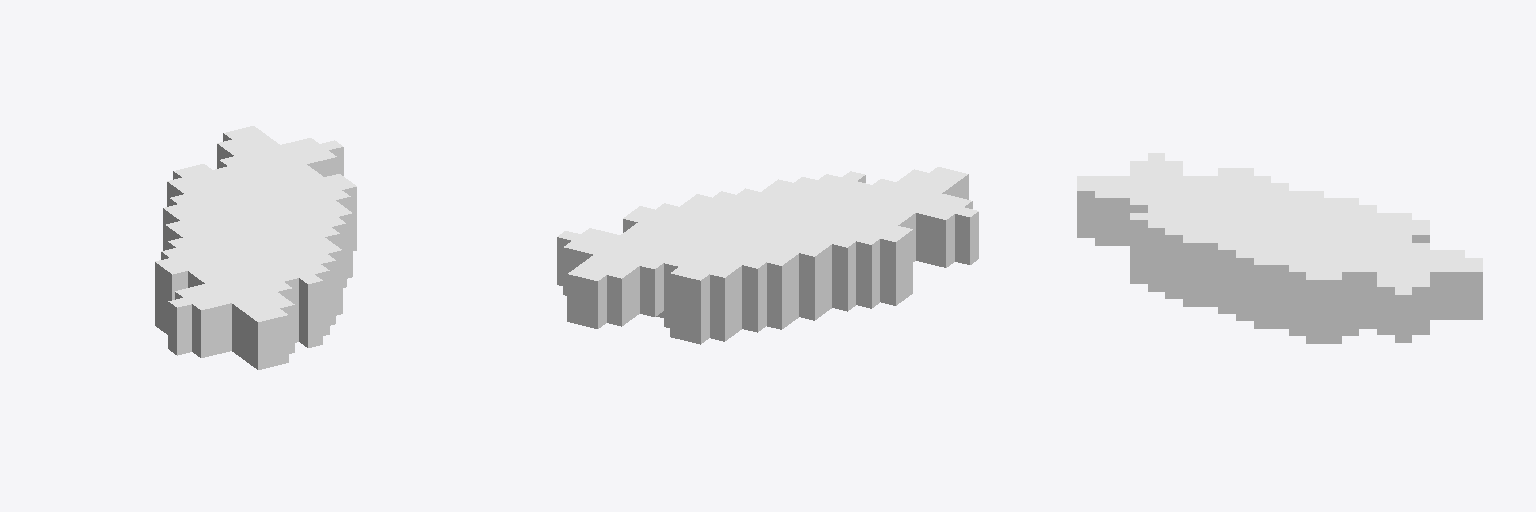
Rendered from Eruption-18.obj.
3 views of the same model, side by side, from view 1: azimuth 30°, elevation 25°; view 2: azimuth 150°, elevation 25°; view 3: azimuth 270°, elevation 25° (orthographic).
Parts seen in each view (by area): view 1: object 1; view 2: object 1; view 3: object 1.
Boxes of the visible parts, box(x1,y1,x2,y2) form: object 1: box(155, 126, 356, 369); object 1: box(557, 167, 978, 344); object 1: box(1077, 153, 1482, 343).
Size of the model in its own units: 1.9 by 0.4 by 2.3.